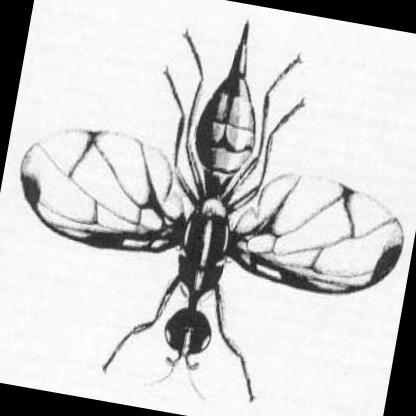fruit fly: (19, 24, 405, 399)
